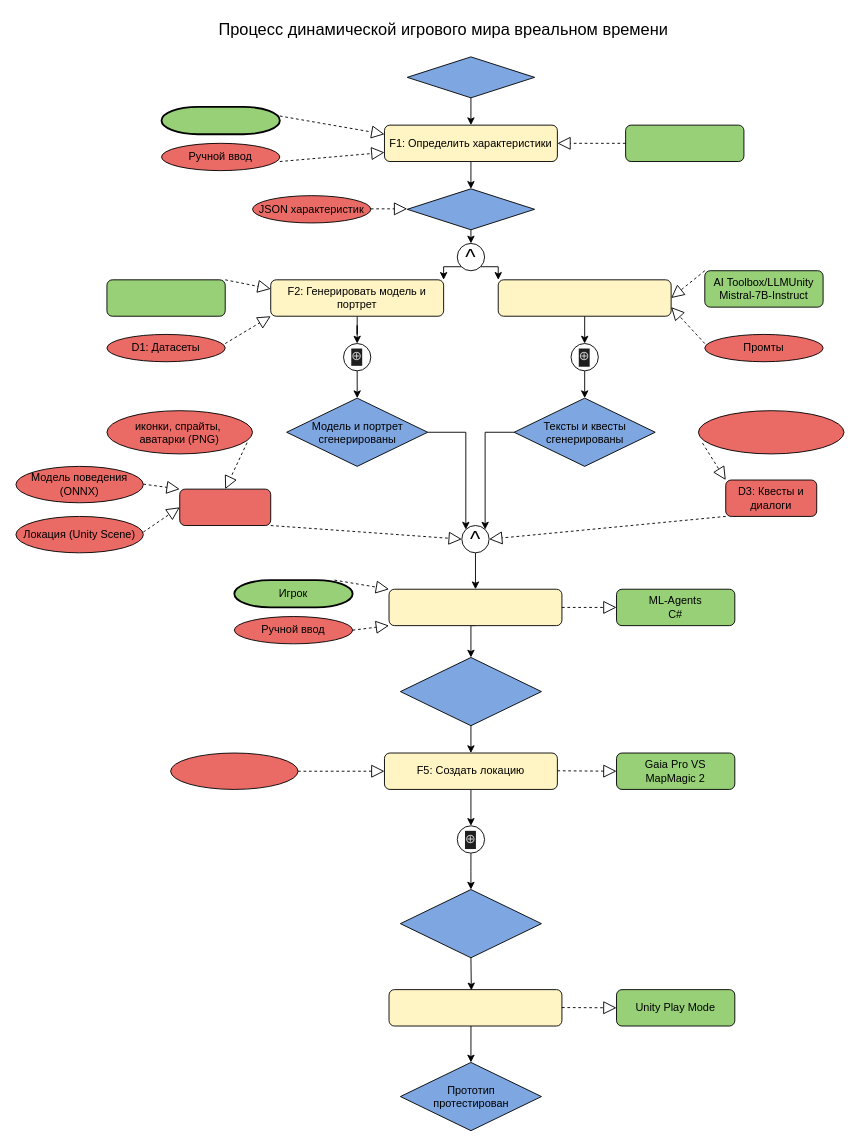
Some shapes in this 860 by 1147 pixel diagram are drawn without their labels. The centre of each missing label's shape, as x and y in pixels:
"D2: Артефакты NPC" goes at [225,507].
"F3: Определить характеристики" goes at [584,297].
"F4: Генерировать поведение NPC" goes at [475,607].
"F6: Тестировать прототип" goes at [475,1007].
"sd-turbo, sd3-medium" goes at [165,297].
"ГОСТ Р 50.1.028-2001" goes at [684,143].
"Контекстные данные (биомы)" goes at [234,770].
"Локация создана" goes at [470,923].
"Начало процесса" goes at [470,77].
"Поведение NPC обучено" goes at [470,691].
"Разработчик" goes at [220,120].
"Текст диалога (JSON), Квест (Lua)" goes at [771,432].
"Характеристики NPC" goes at [470,209].
